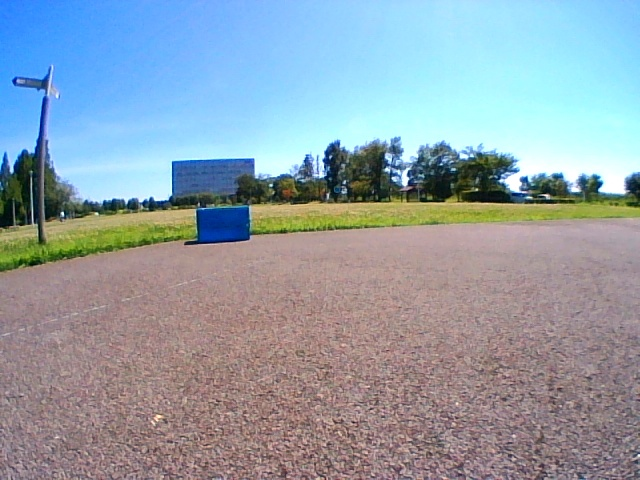blue_box: (197, 206, 249, 241)
